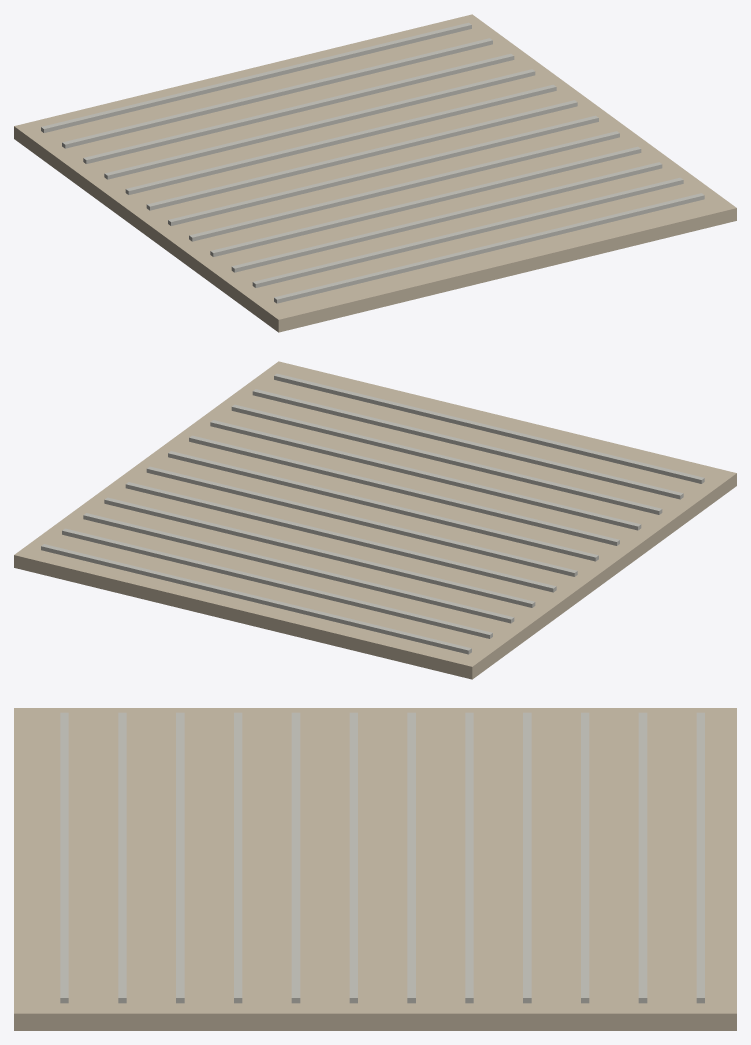
File: raked-garden-tile.glb
3 views of the same model, one above another, from view 1: azimuth 30°, elevation 25°; view 2: azimuth 150°, elevation 25°; view 3: azimuth 270°, elevation 25° (orthographic). The views are drawn at different scales.
Visible parts, largest first — view 1: raked-garden-tile; view 2: raked-garden-tile; view 3: raked-garden-tile.
Part boxes in pixels (x1,y1,x2,y2): raked-garden-tile: (14,14,736,332); raked-garden-tile: (14,361,736,679); raked-garden-tile: (14,708,736,1030).
Size of the model in its own units: 3 by 0.1049 by 3.
